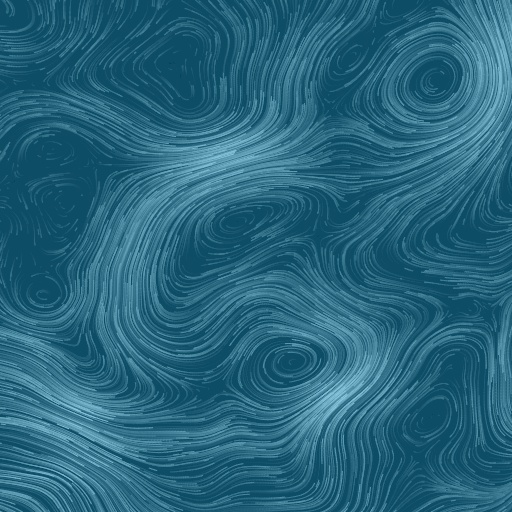eddy: (382, 29, 485, 131), (135, 19, 213, 112), (240, 328, 334, 397), (196, 188, 294, 249), (26, 174, 96, 254), (397, 390, 457, 449), (15, 266, 73, 321), (14, 130, 78, 169), (329, 38, 376, 83)
